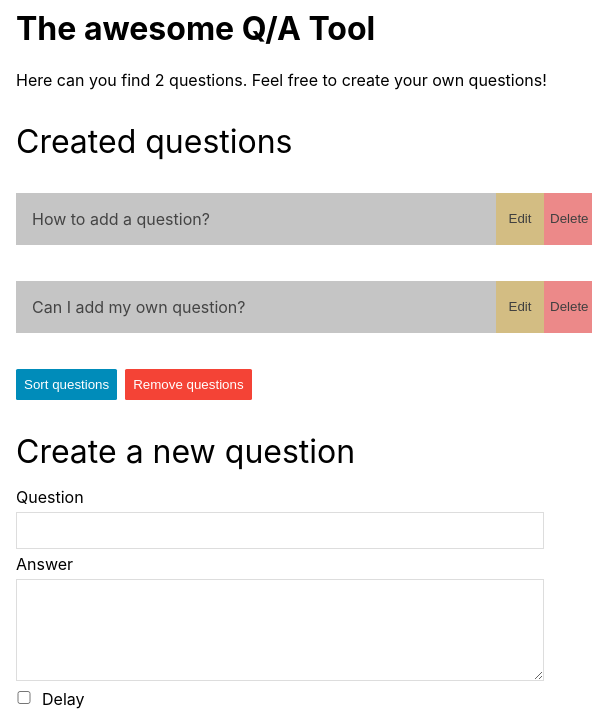
<QA /> › deletes question
The width and height of the screenshot is (609, 720).
Step 1. Click the button with test id "delete-button-0" → (568, 219), box [544, 193, 592, 245]
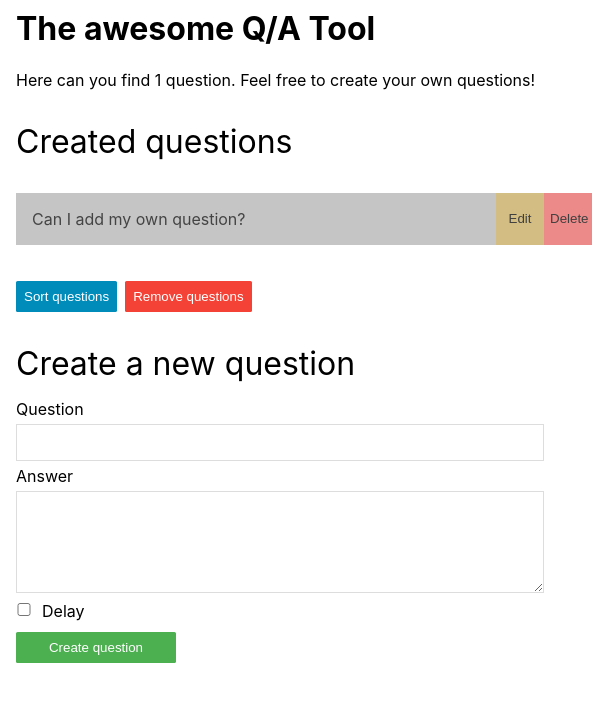
Expected: the text "Can I add my own question?" is shown, [16, 193, 496, 245]
Now the text "How to add a question?" is gone
